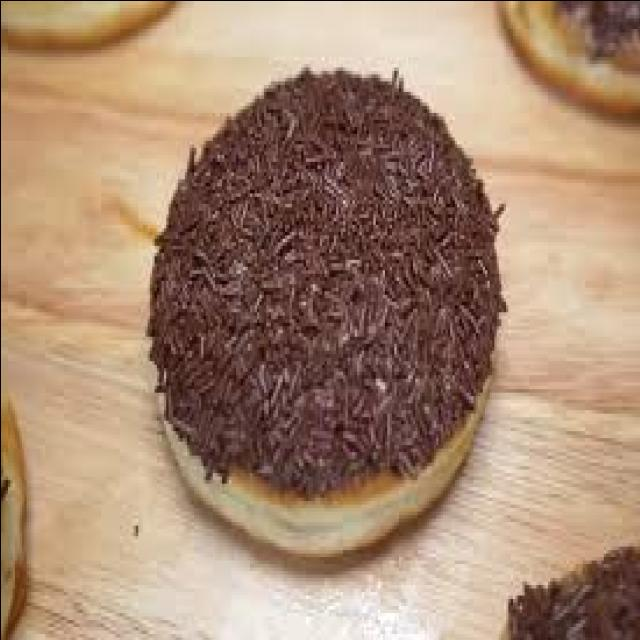donat: (147, 70, 507, 556)
